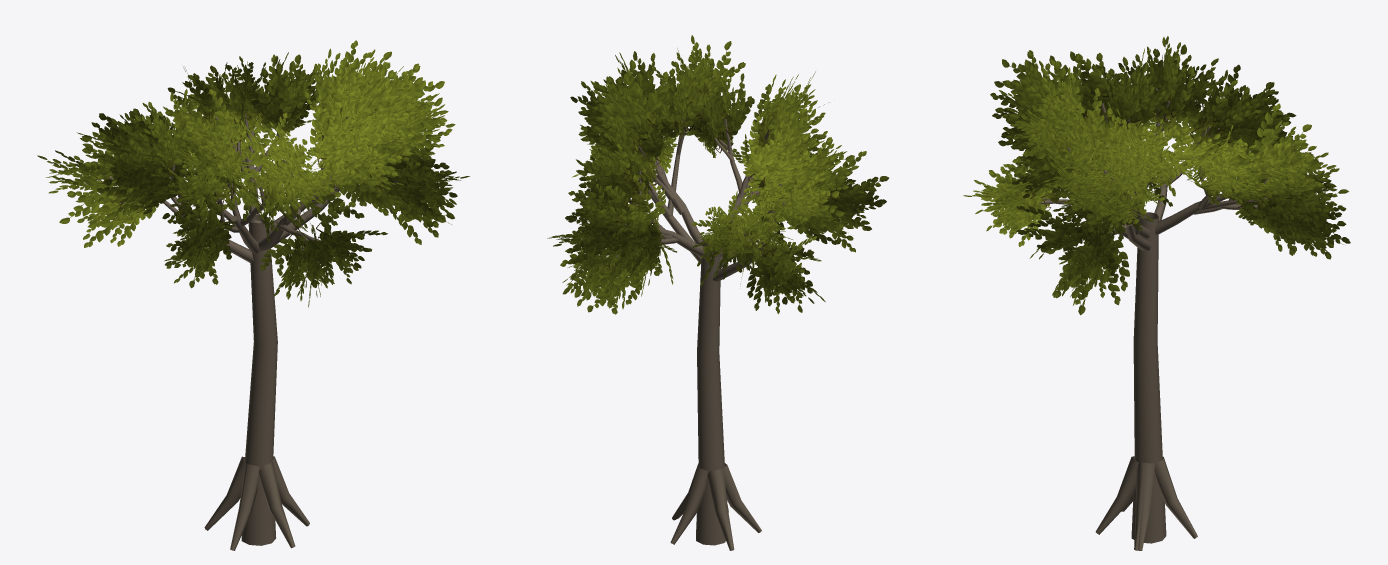
File: jungle_tree_2_burnt1.glb
The picture shows the model from 3 angles, left to right: view 1: azimuth 30°, elevation 25°; view 2: azimuth 150°, elevation 25°; view 3: azimuth 270°, elevation 25°; orthographic projection. The views are drawn at different scales.
Parts seen in each view (by area): view 1: jungle_tree_2_burnt1; view 2: jungle_tree_2_burnt1; view 3: jungle_tree_2_burnt1.
Boxes of the visible parts, <box> form: jungle_tree_2_burnt1: <box>37,40,469,550</box>; jungle_tree_2_burnt1: <box>547,35,888,550</box>; jungle_tree_2_burnt1: <box>963,36,1350,550</box>.
Size of the model in its own units: 13.11 by 17.55 by 13.27.
Materials: 2 (1 with a texture image).
